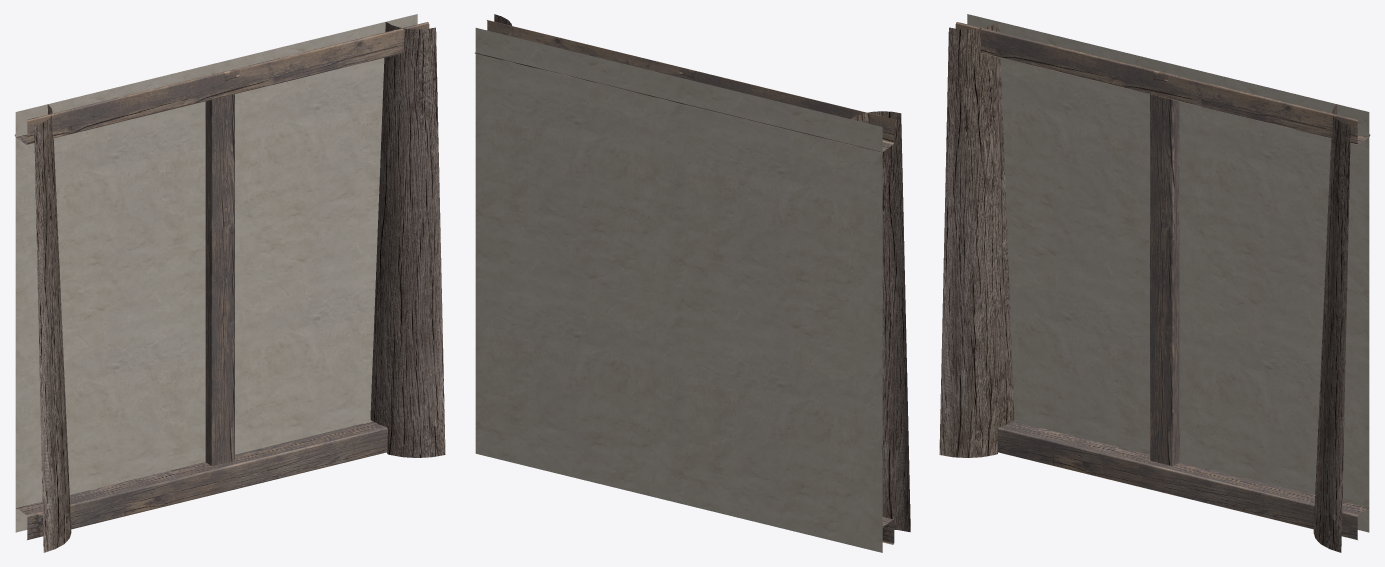
File: IntWall01b.FBX
3 renders of one model, left to right at view 1: azimuth 30°, elevation 25°; view 2: azimuth 150°, elevation 25°; view 3: azimuth 330°, elevation 25°, orthographic.
Visible parts, largest first — view 1: IntWall01b; view 2: IntWall01b; view 3: IntWall01b.
Boxes of the visible parts, x1,y1,x2,y2 form: IntWall01b: (14, 14, 445, 552); IntWall01b: (475, 14, 910, 552); IntWall01b: (939, 14, 1370, 552).
Bounding box in the file's own units: 98.43 × 12.37 × 98.43.
